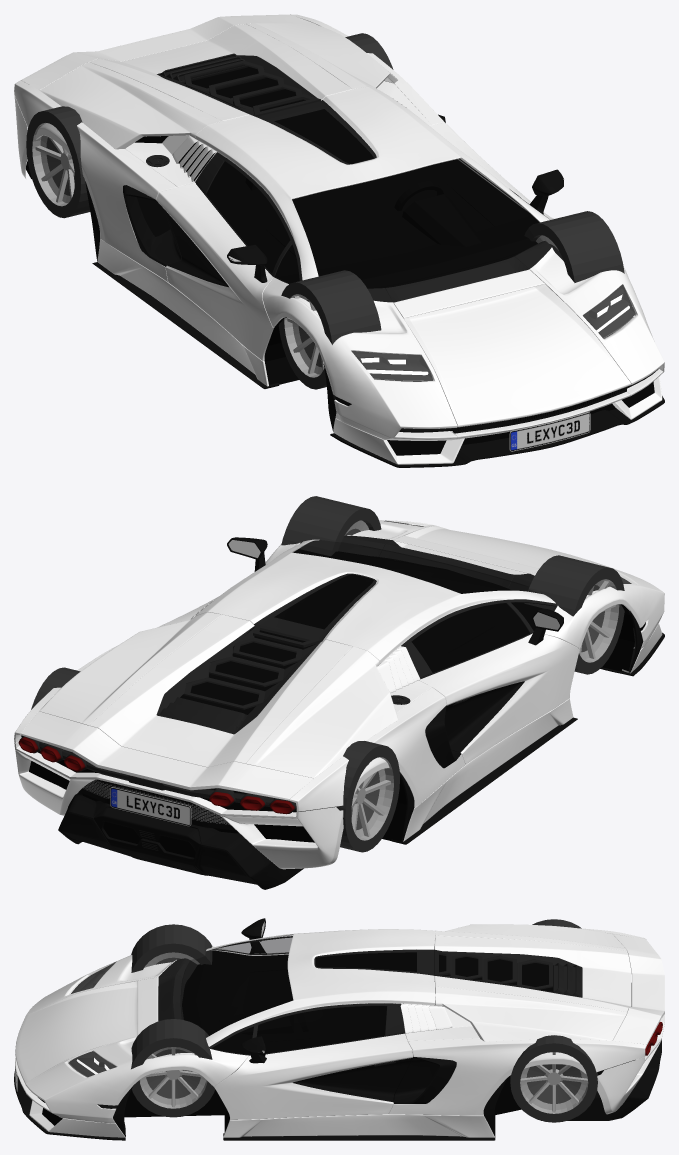
The model's file is countach.glb.
3 renders of one model, top to bottom at view 1: azimuth 30°, elevation 25°; view 2: azimuth 150°, elevation 25°; view 3: azimuth 270°, elevation 25°, orthographic. The views are drawn at different scales.
Visible parts, largest first — view 1: Body, WheelFR, WheelBR, WheelFL; view 2: Body, WheelFR, WheelBR, WheelFL, WheelBL; view 3: Body, WheelFL, WheelBL, WheelFR.
Part boxes in pixels (box(x1,y1,x2,y2)): Body: box(14, 14, 664, 467); WheelFR: box(278, 270, 381, 389); WheelBR: box(26, 106, 90, 218); WheelFL: box(524, 211, 624, 282); Body: box(14, 520, 664, 889); WheelFR: box(524, 555, 624, 674); WheelBR: box(305, 741, 399, 852); WheelFL: box(281, 496, 381, 556); WheelBL: box(31, 667, 80, 709); Body: box(14, 918, 664, 1140); WheelFL: box(131, 1019, 215, 1117); WheelBL: box(510, 1035, 597, 1122); WheelFR: box(131, 924, 212, 972).
Size of what is drawn, in the model's own units: 2.33 by 1.03 by 4.92.
Materials: 16 (4 with a texture image).
